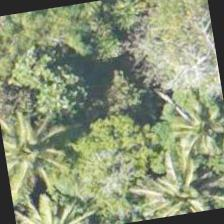Kelapa_Sawit: (151, 74, 223, 176), (0, 101, 71, 200), (126, 150, 223, 222)
